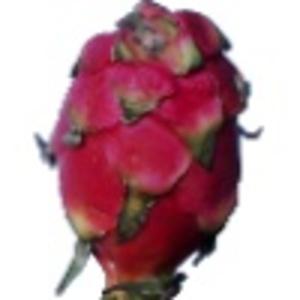pitaia: (33, 1, 263, 300)
